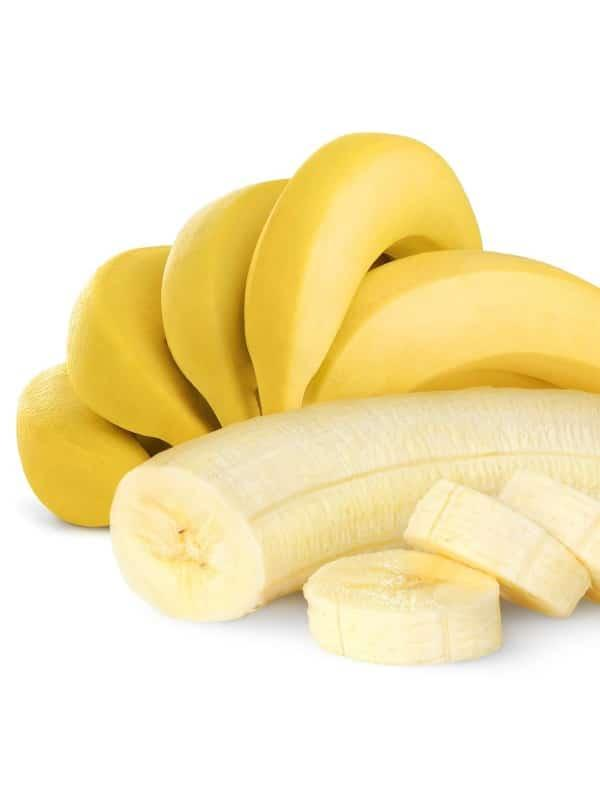Banana Fresh: (16, 138, 600, 688)
